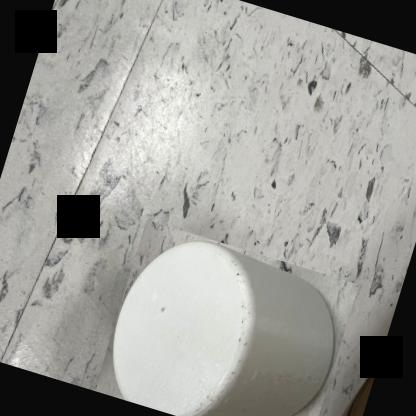white cylinder: (93, 219, 358, 416)
